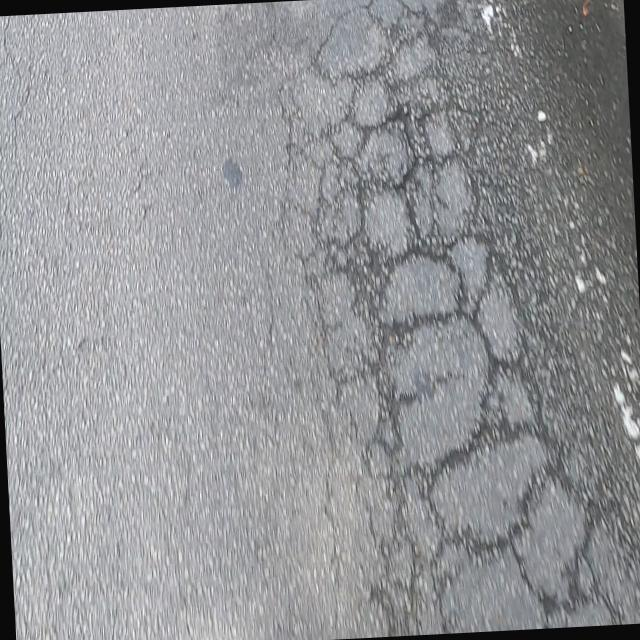Retak-Buaya: (281, 0, 640, 632)
